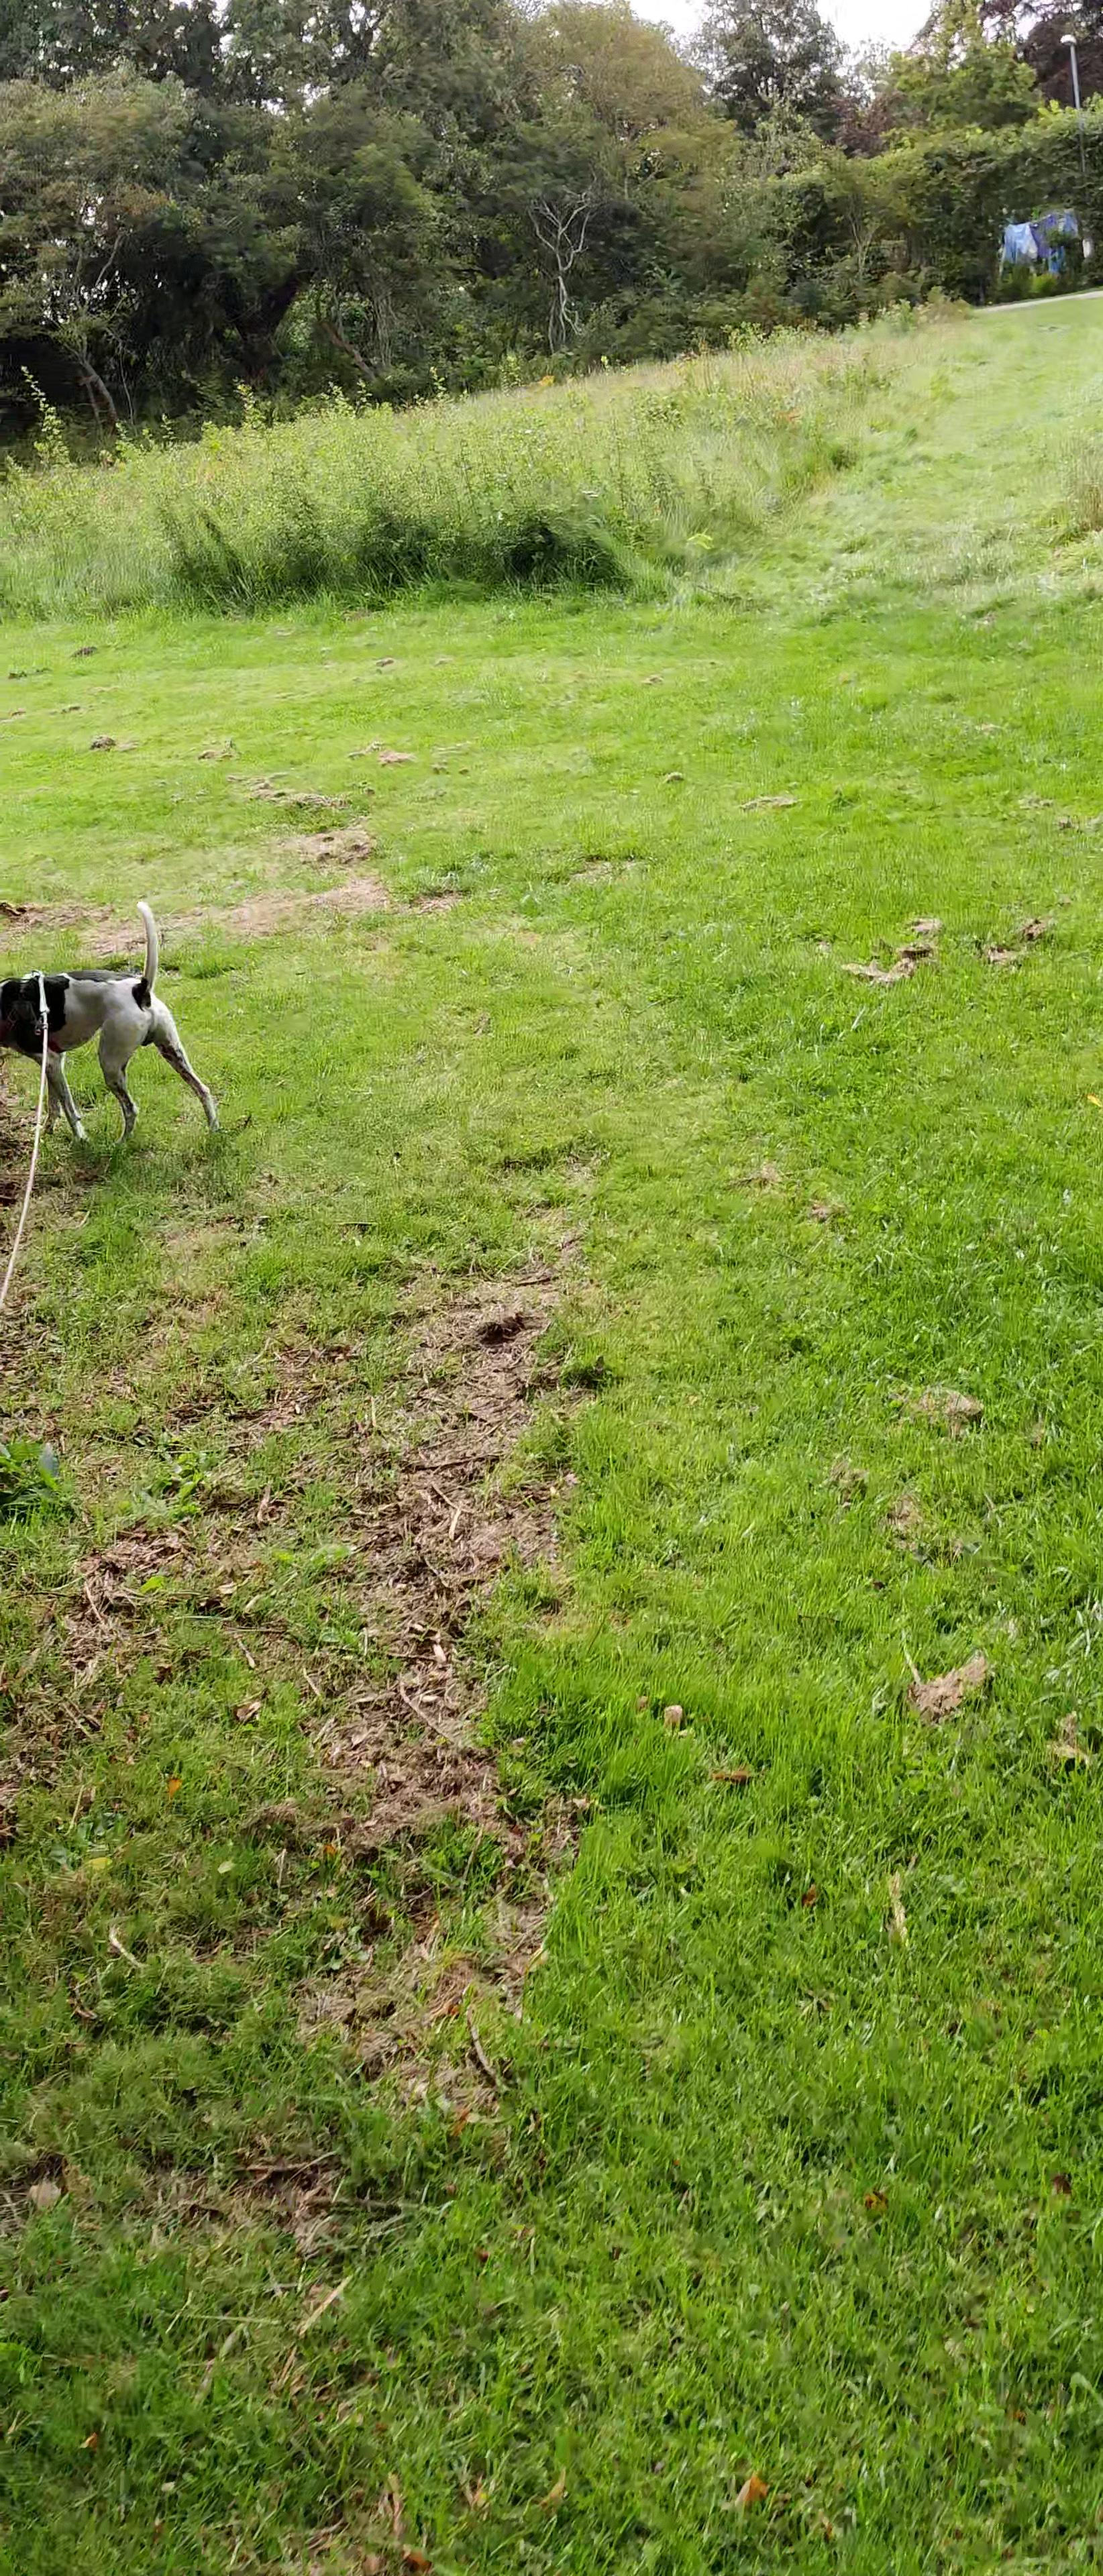Dog: (0, 897, 228, 1160)
